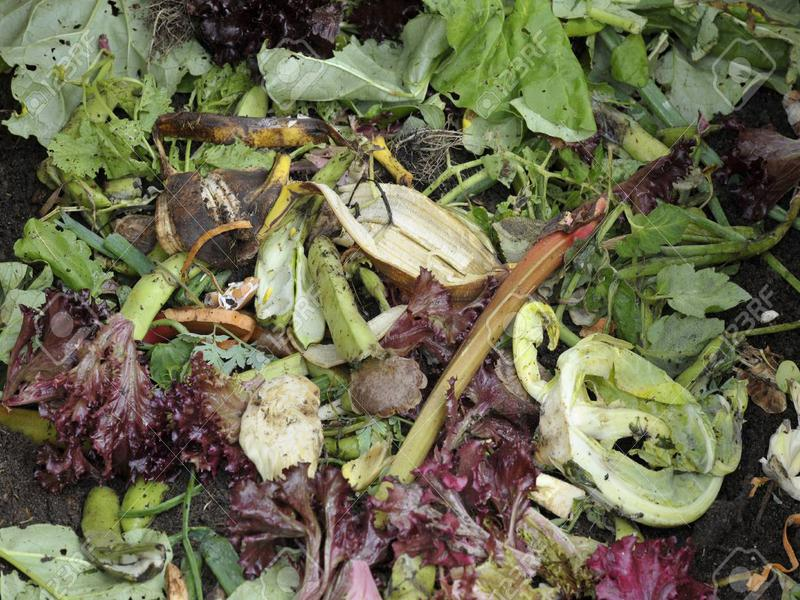vegetation: (1, 1, 800, 600)
